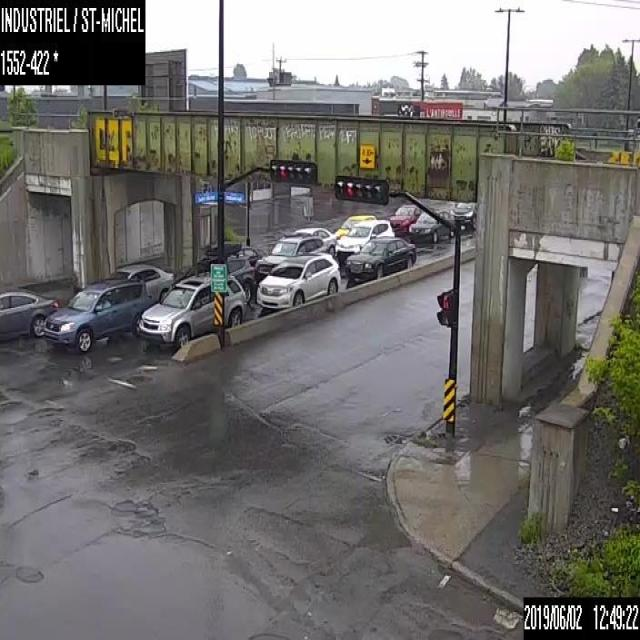vehicle: (138, 272, 246, 348), (44, 279, 155, 351), (178, 239, 254, 304), (256, 254, 340, 306), (251, 232, 327, 282), (0, 283, 58, 341), (103, 264, 174, 307), (344, 236, 415, 279), (335, 219, 394, 259), (412, 209, 458, 243), (293, 227, 337, 258), (333, 214, 377, 241), (389, 202, 422, 230), (450, 200, 476, 227), (234, 245, 262, 266)
